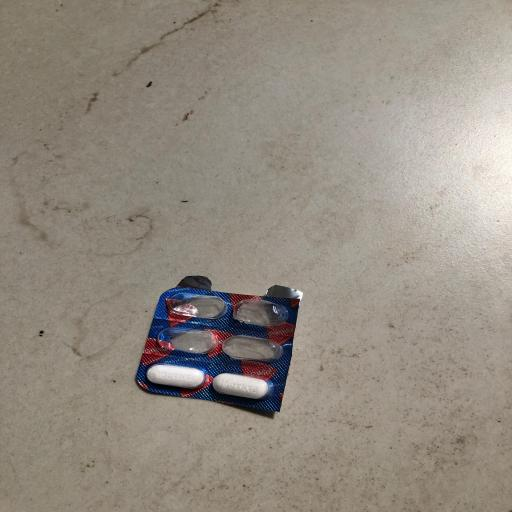waste: (125, 268, 343, 416)
